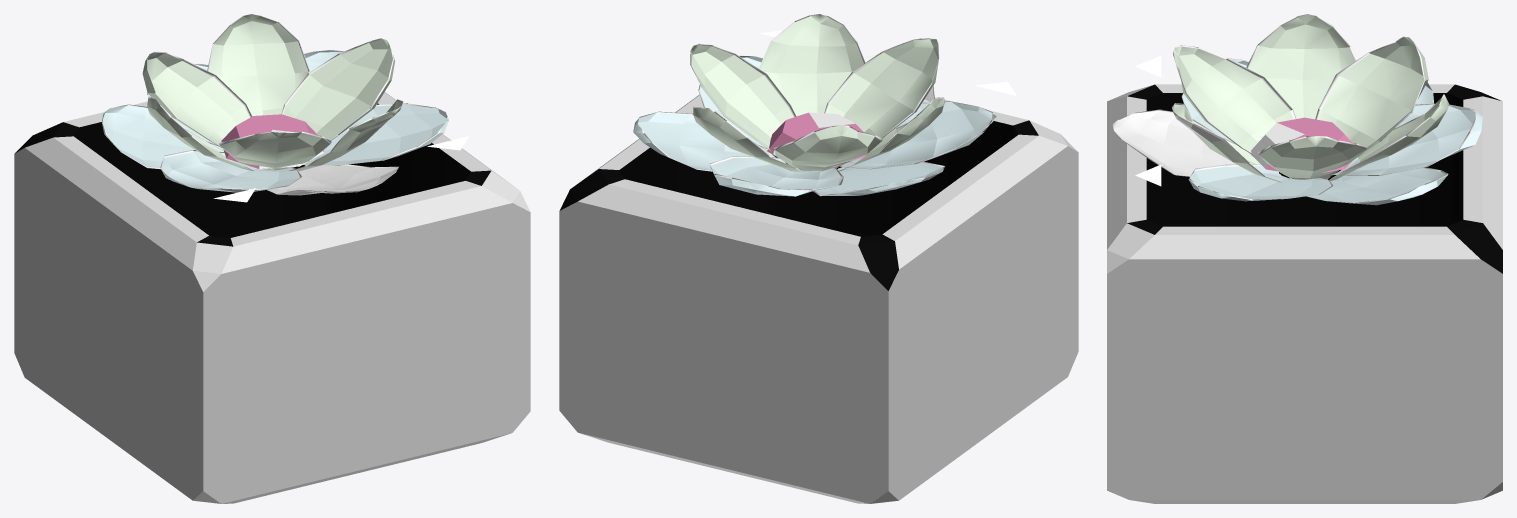
The model's file is Dispatcher.fbx.
3 views of the same model, side by side, from view 1: azimuth 30°, elevation 25°; view 2: azimuth 150°, elevation 25°; view 3: azimuth 270°, elevation 25° (orthographic). The views are drawn at different scales.
Visible parts, largest first — view 1: SM_Ground, Sphere, Plane; view 2: SM_Ground, Sphere; view 3: SM_Ground, Sphere, Plane.
Part boxes in pixels (left/top/right/bottom): SM_Ground: left=14, top=92, right=530, bottom=503; Sphere: left=102, top=14, right=448, bottom=195; Plane: left=213, top=136, right=469, bottom=202; SM_Ground: left=559, top=95, right=1078, bottom=503; Sphere: left=633, top=14, right=996, bottom=196; SM_Ground: left=1107, top=84, right=1502, bottom=503; Sphere: left=1112, top=14, right=1482, bottom=205; Plane: left=1135, top=55, right=1161, bottom=186.
Bounding box in the file's own units: 100 × 99.13 × 100.
